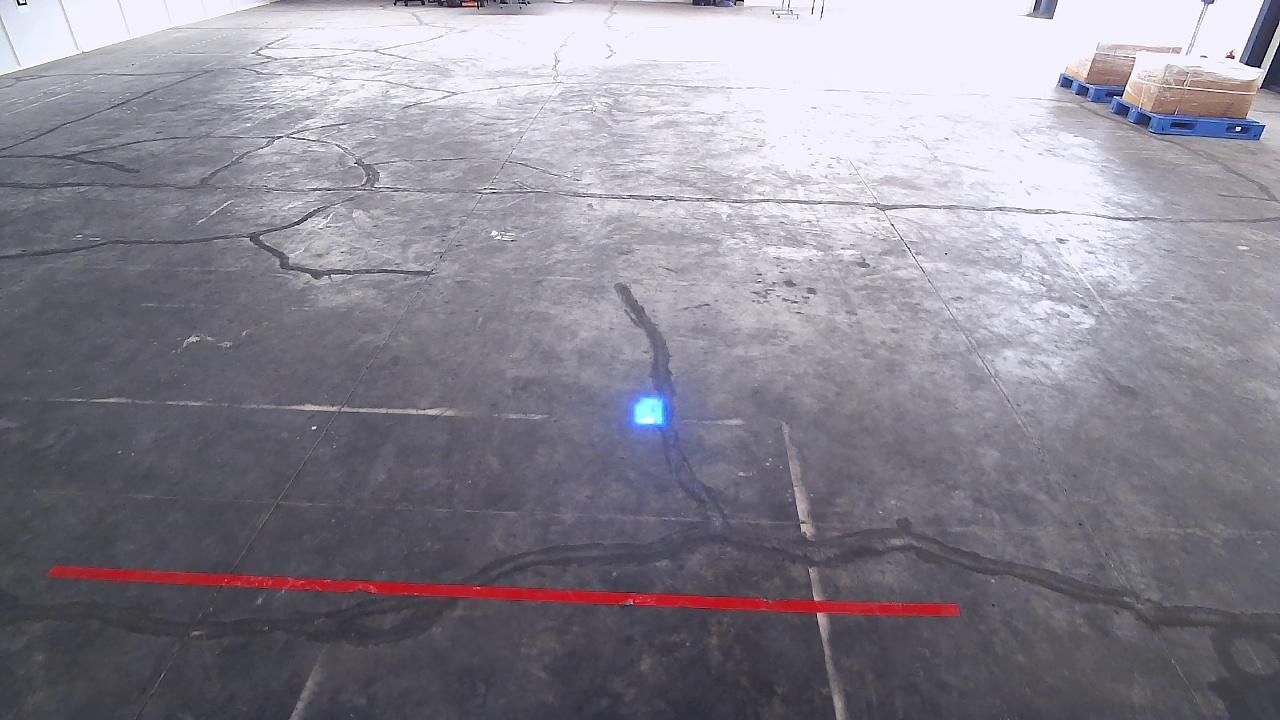red_line: (50, 564, 962, 616)
